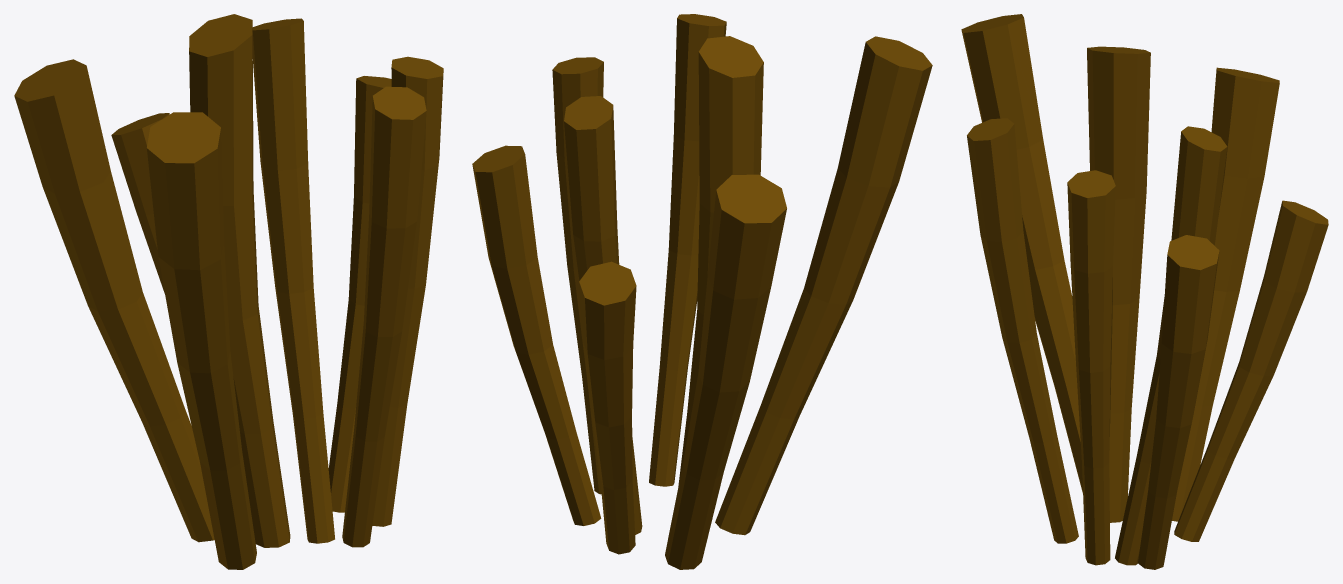
Rendered from Koraal.fbx.
3 renders of one model, left to right at view 1: azimuth 30°, elevation 25°; view 2: azimuth 150°, elevation 25°; view 3: azimuth 270°, elevation 25°, orthographic. The views are drawn at different scales.
Visible parts, largest first — view 1: pCylinder110; view 2: pCylinder110; view 3: pCylinder110.
Boxes of the visible parts, left/top/right/bottom form: pCylinder110: left=14, top=14, right=443, bottom=569; pCylinder110: left=472, top=14, right=932, bottom=569; pCylinder110: left=961, top=14, right=1328, bottom=569.
Size of the model in its own units: 1.65 by 2.31 by 1.61.
